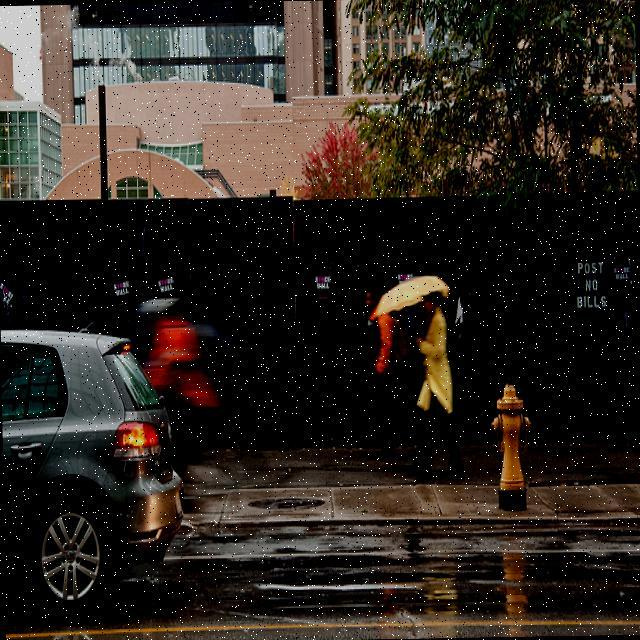fire_hydrant: (489, 374, 532, 509)
